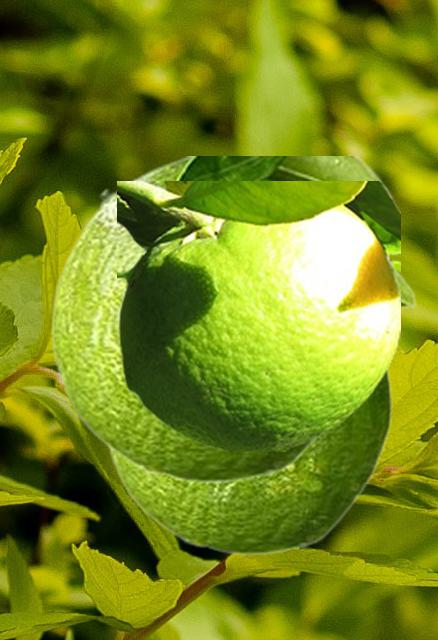dalandan: (50, 156, 394, 482), (103, 259, 416, 554), (117, 181, 399, 450)
